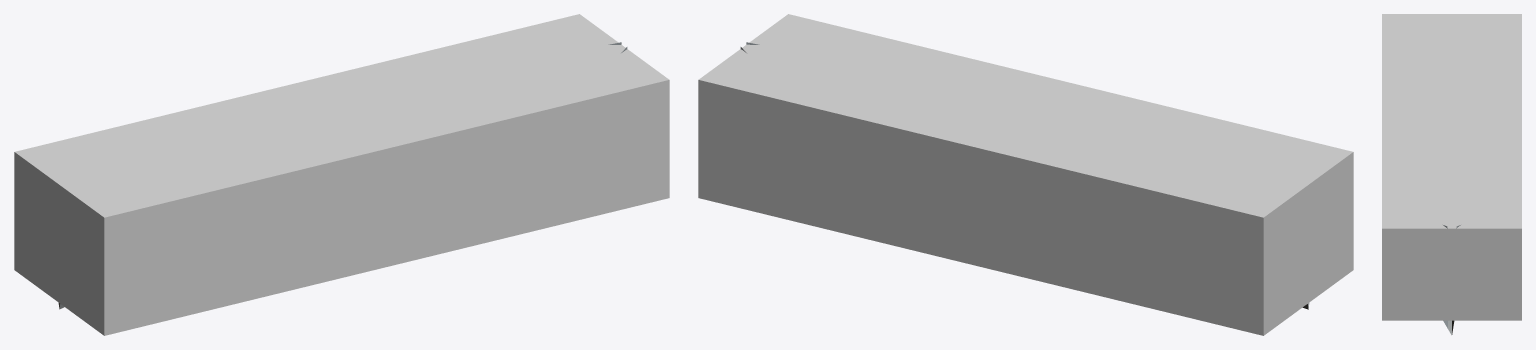
File: JP_Prop_Boat_A.glb
The picture shows the model from 3 angles, left to right: view 1: azimuth 30°, elevation 25°; view 2: azimuth 150°, elevation 25°; view 3: azimuth 270°, elevation 25°; orthographic projection. The views are drawn at different scales.
Visible parts, largest first — view 1: COL_JP_Prop_Boat_A; view 2: COL_JP_Prop_Boat_A; view 3: COL_JP_Prop_Boat_A, JP_Prop_Boat_A.
Boxes of the visible parts, <box> form: COL_JP_Prop_Boat_A: <box>14,14,669,335</box>; COL_JP_Prop_Boat_A: <box>698,14,1353,335</box>; COL_JP_Prop_Boat_A: <box>1382,14,1521,320</box>; JP_Prop_Boat_A: <box>1443,225,1460,335</box>.
Size of the model in its own units: 4.5 by 1.07 by 1.24.
2 materials, 2 textured.
